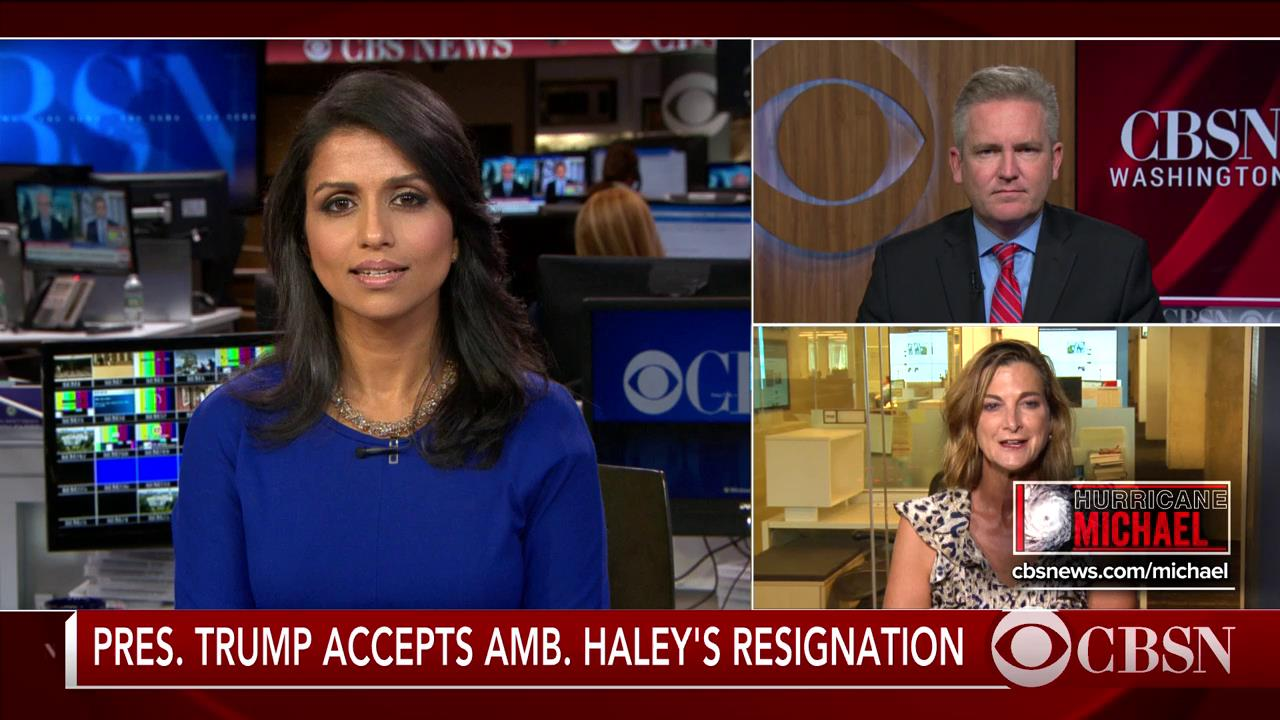C: (685, 350, 735, 415)
CBS NEWS: (339, 39, 517, 60)
CBSN: (1120, 108, 1279, 161), (1077, 624, 1235, 676)
HURRICANE: (1073, 486, 1228, 510)
MICHAEL: (1071, 508, 1210, 548)
PRES. TRUMP ACCEPTS AMB. HALEY'S RESIGNATION: (93, 624, 967, 669)
WASHINGTON: (1109, 165, 1280, 189)
cbsnews.com/michael: (1011, 562, 1229, 579)
